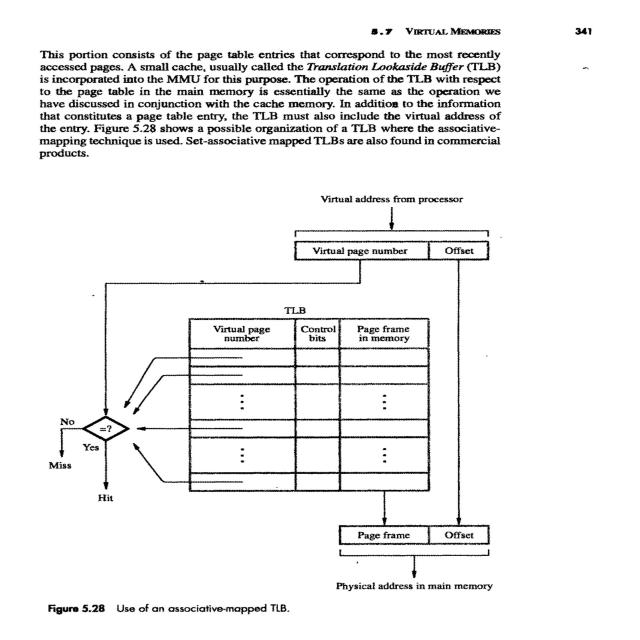diagram: (24, 179, 539, 630)
